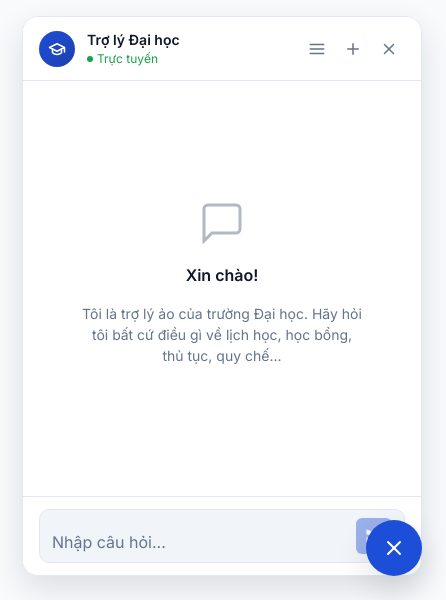
Test: ChatWidget › gửi lại câu hỏi cũ khi bấm Thử lại
Type "Học bổng?" into the text box named "Nhập tin nhắn".
click(200, 542); type("Học bổng?")  # box x1=52 y1=530 x2=348 y2=554
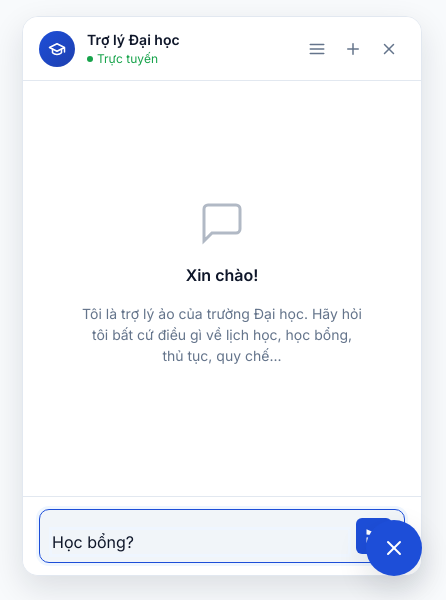
Press Enter
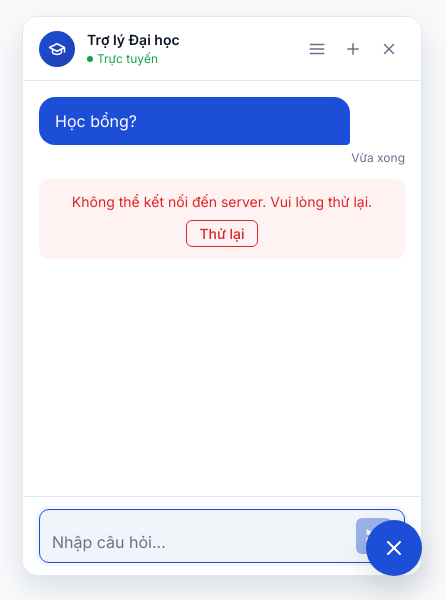
Check: the button "Thử lại" is shown
Click the button "Thử lại".
click(222, 234)  # box x1=186 y1=220 x2=258 y2=247
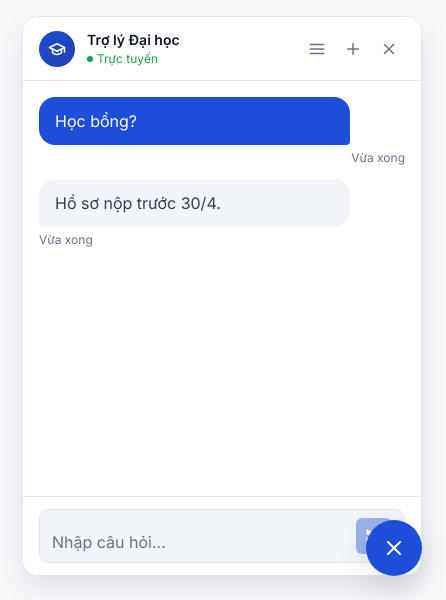
Check: the text "Hồ sơ nộp trước 30/4." is shown, box x1=39 y1=179 x2=350 y2=227
